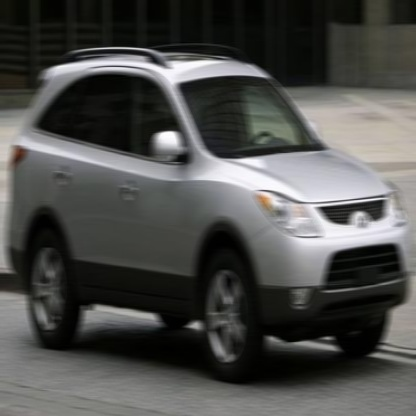Vehicle: (8, 46, 411, 381)
